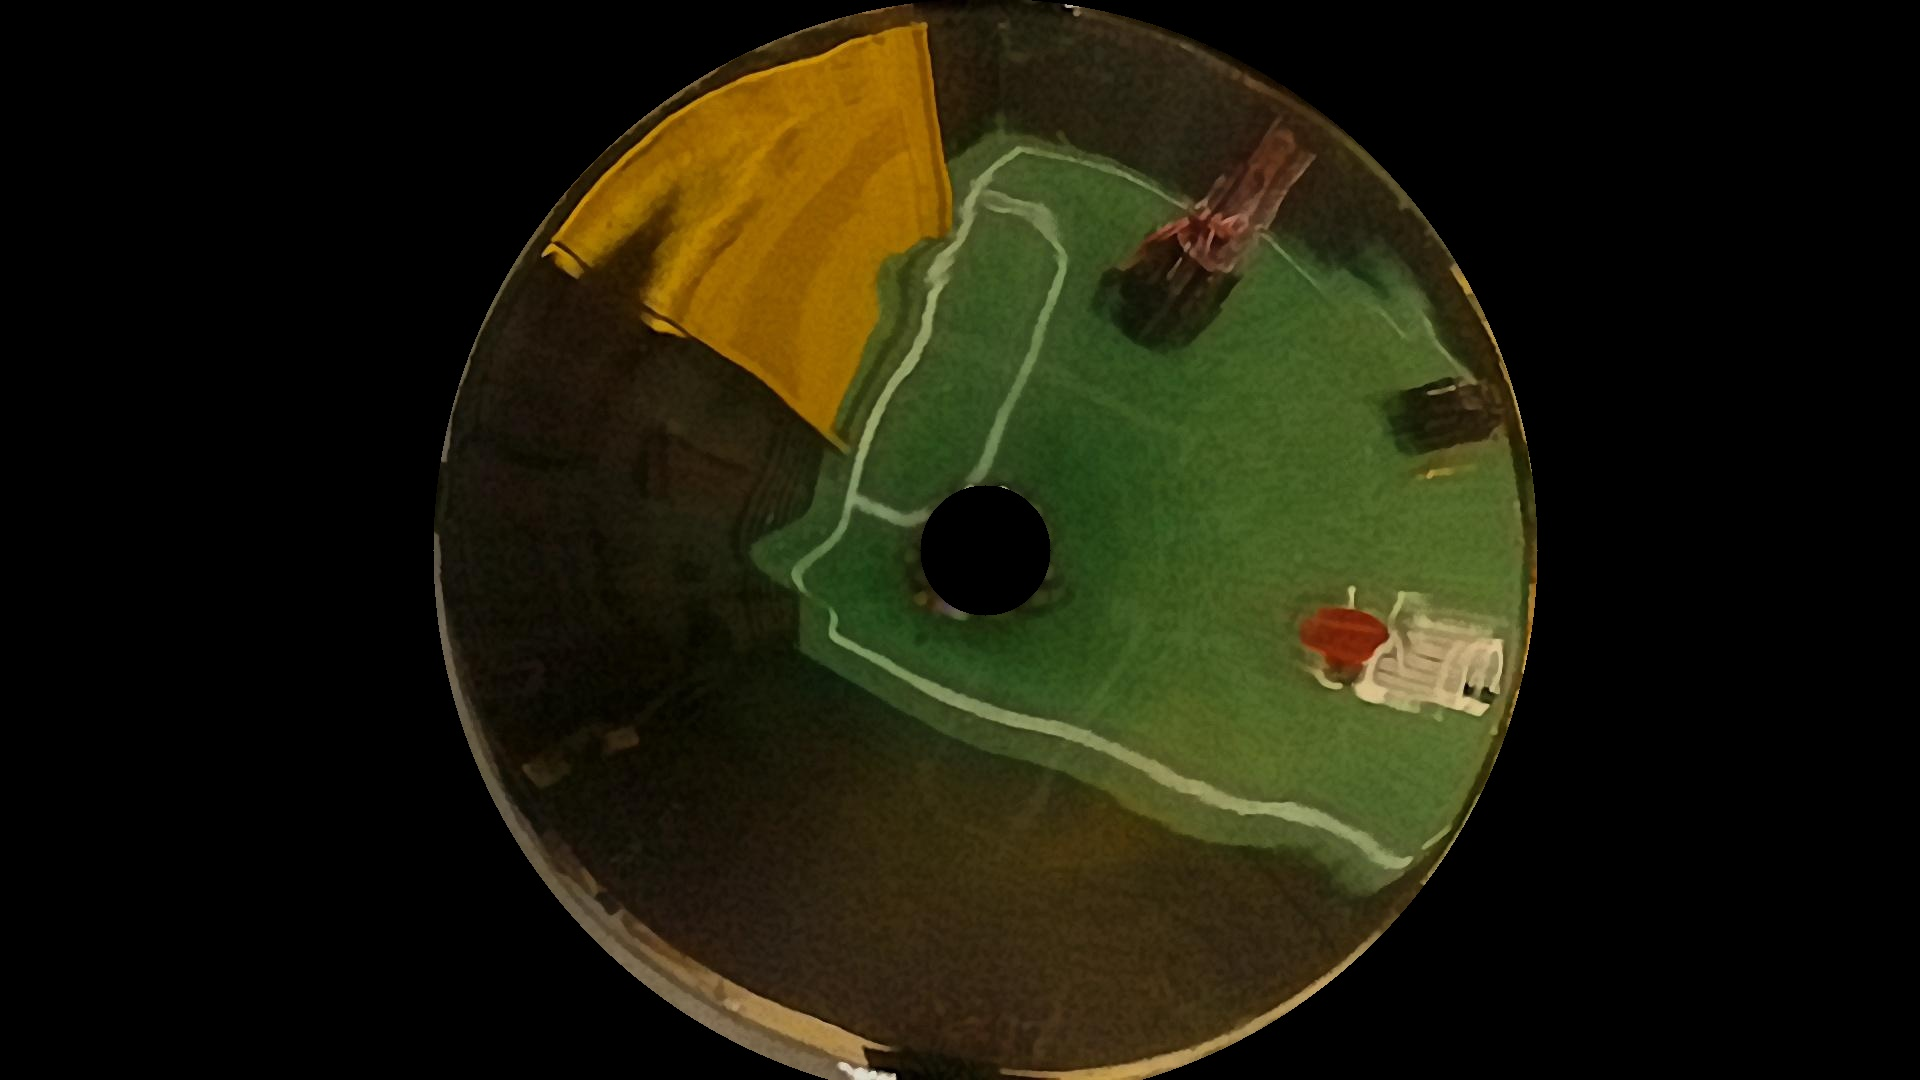robots: (1114, 102, 1304, 364), (1286, 576, 1478, 736), (1385, 342, 1524, 472)
yellow-goal: (564, 36, 963, 446)
